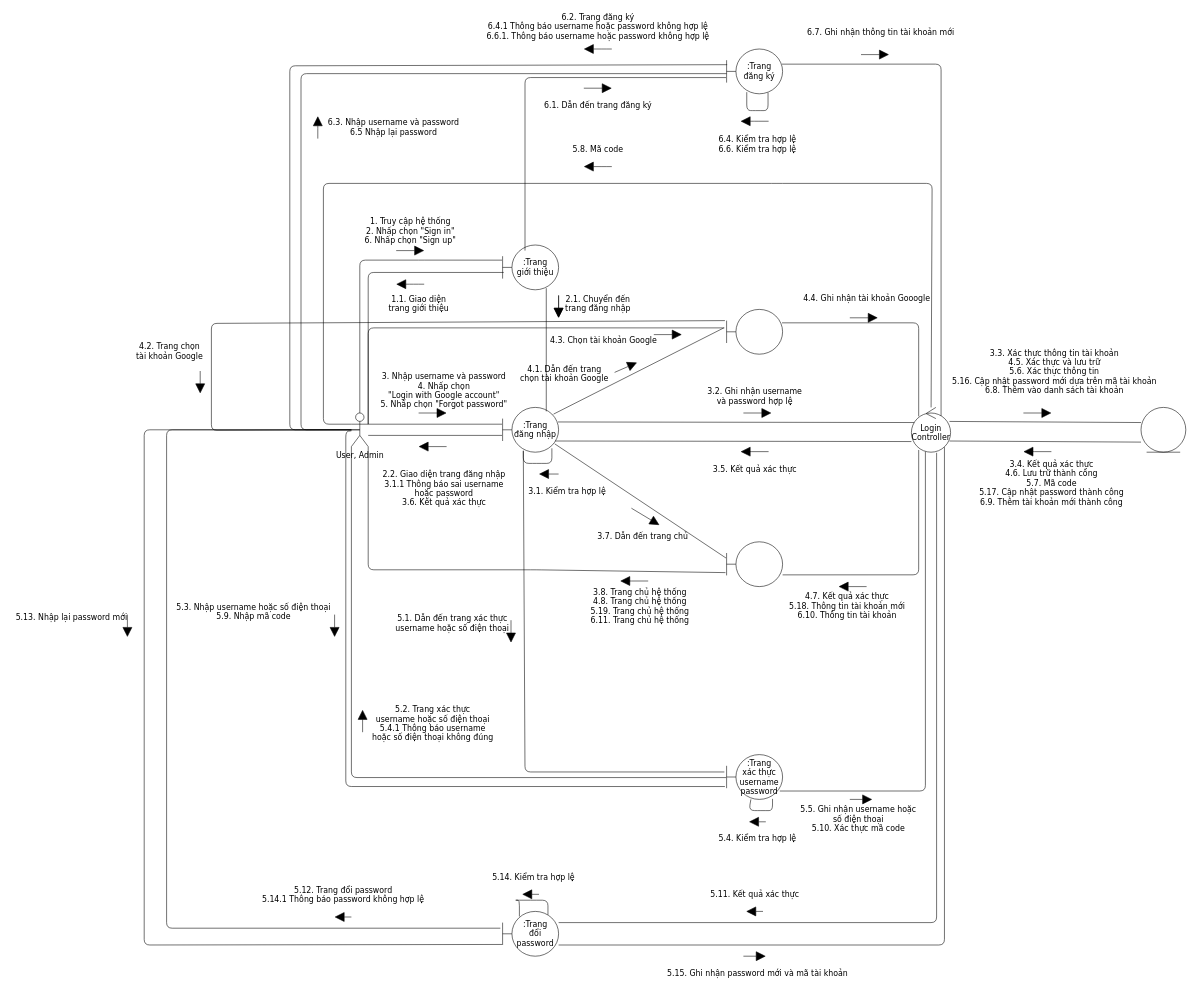
Image size: 1196x988. Some labels were removed from this diagram. The shapes that lost their labels are listed below. From the top down, each one's centre as x and y in pixels, then its label:
At point 754,331: ":Trang chọn tài khoản".
At point 1163,429: "Accounts".
At point 754,564: ":Trang chủ".
